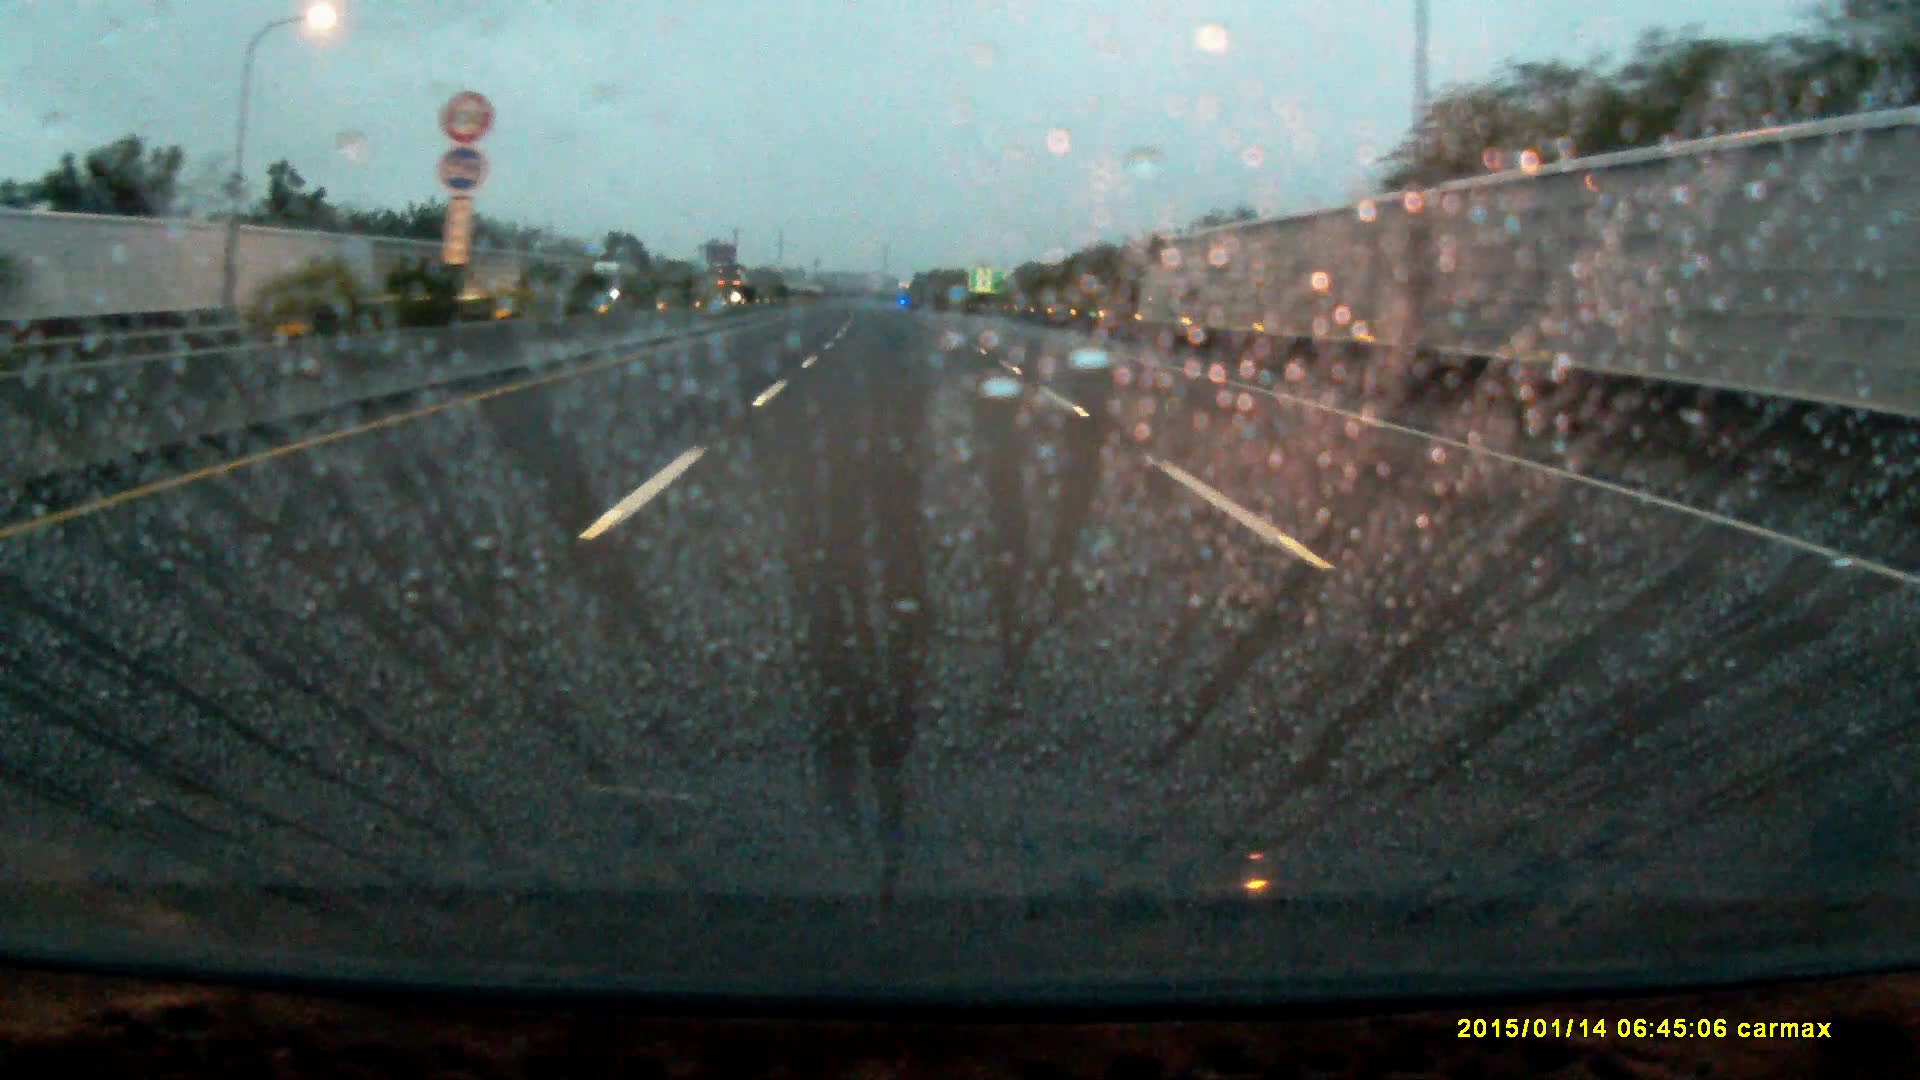vehicle: (589, 261, 638, 299), (717, 277, 753, 305)
